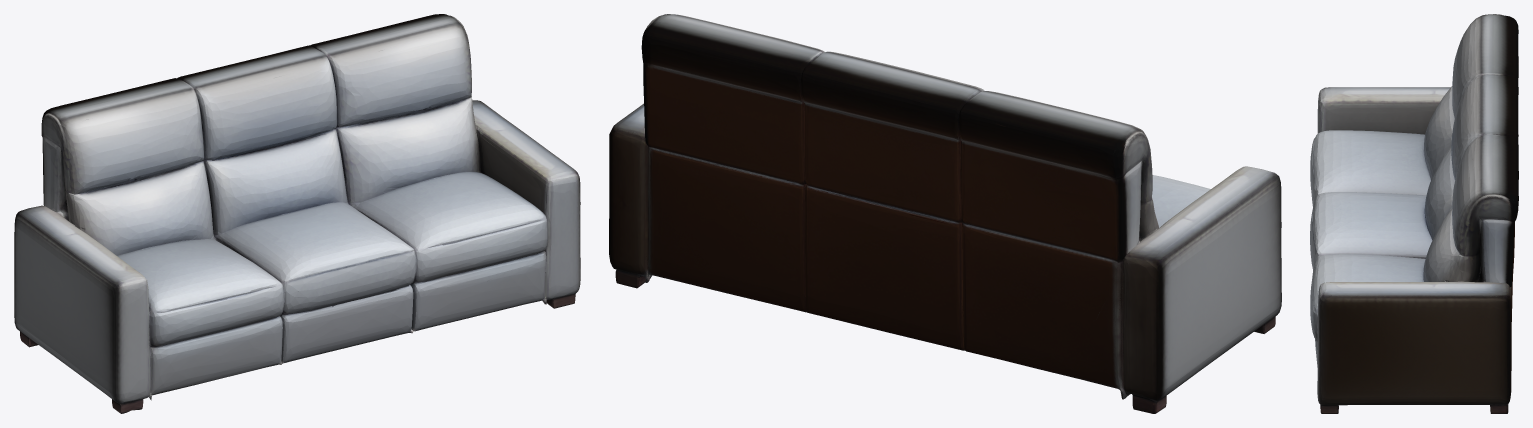
File: fc76af79-c8a4-47ff-bfff-9b52e0e5e443.glb
3 renders of one model, left to right at view 1: azimuth 30°, elevation 25°; view 2: azimuth 150°, elevation 25°; view 3: azimuth 270°, elevation 25°, orthographic. The views are drawn at different scales.
Parts seen in each view (by area): view 1: geometry_0; view 2: geometry_0; view 3: geometry_0.
Boxes of the visible parts, x1,y1,x2,y2 form: geometry_0: [14, 14, 580, 413]; geometry_0: [609, 14, 1281, 413]; geometry_0: [1310, 14, 1518, 413].
Size of the model in its own units: 0.9999 by 0.4614 by 0.418.
1 material, 1 textured.
